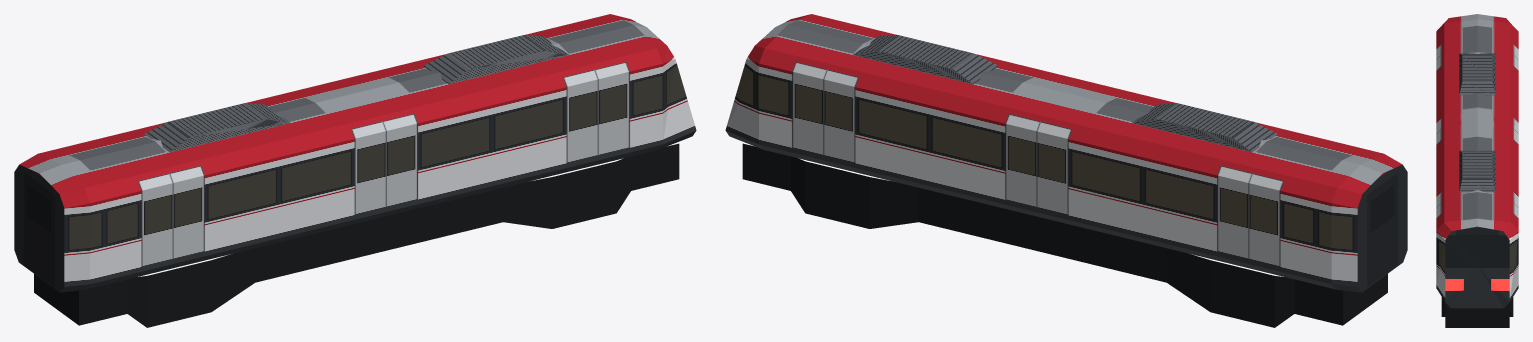
The model's file is val_52m__tail.glb.
The picture shows the model from 3 angles, left to right: view 1: azimuth 30°, elevation 25°; view 2: azimuth 150°, elevation 25°; view 3: azimuth 270°, elevation 25°; orthographic projection. The views are drawn at different scales.
Visible parts, largest first — view 1: val_52m__tail; view 2: val_52m__tail; view 3: val_52m__tail.
Part boxes in pixels (x1,y1,x2,y2): val_52m__tail: [14, 14, 696, 327]; val_52m__tail: [725, 14, 1407, 327]; val_52m__tail: [1436, 14, 1518, 327].
Bounding box in the file's own units: 13 × 3.25 × 2.06.
1 material, 1 textured.
